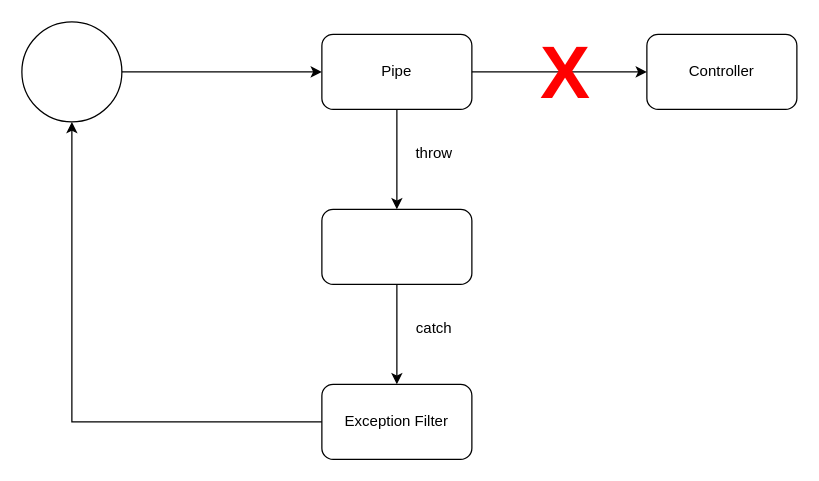
Image size: 819x481. Some labels were removed from this diagram. The centre of each missing label's shape, as x and y in pixels:
"Client" belongs at (x=71, y=71).
"Exception" belongs at (x=396, y=246).
